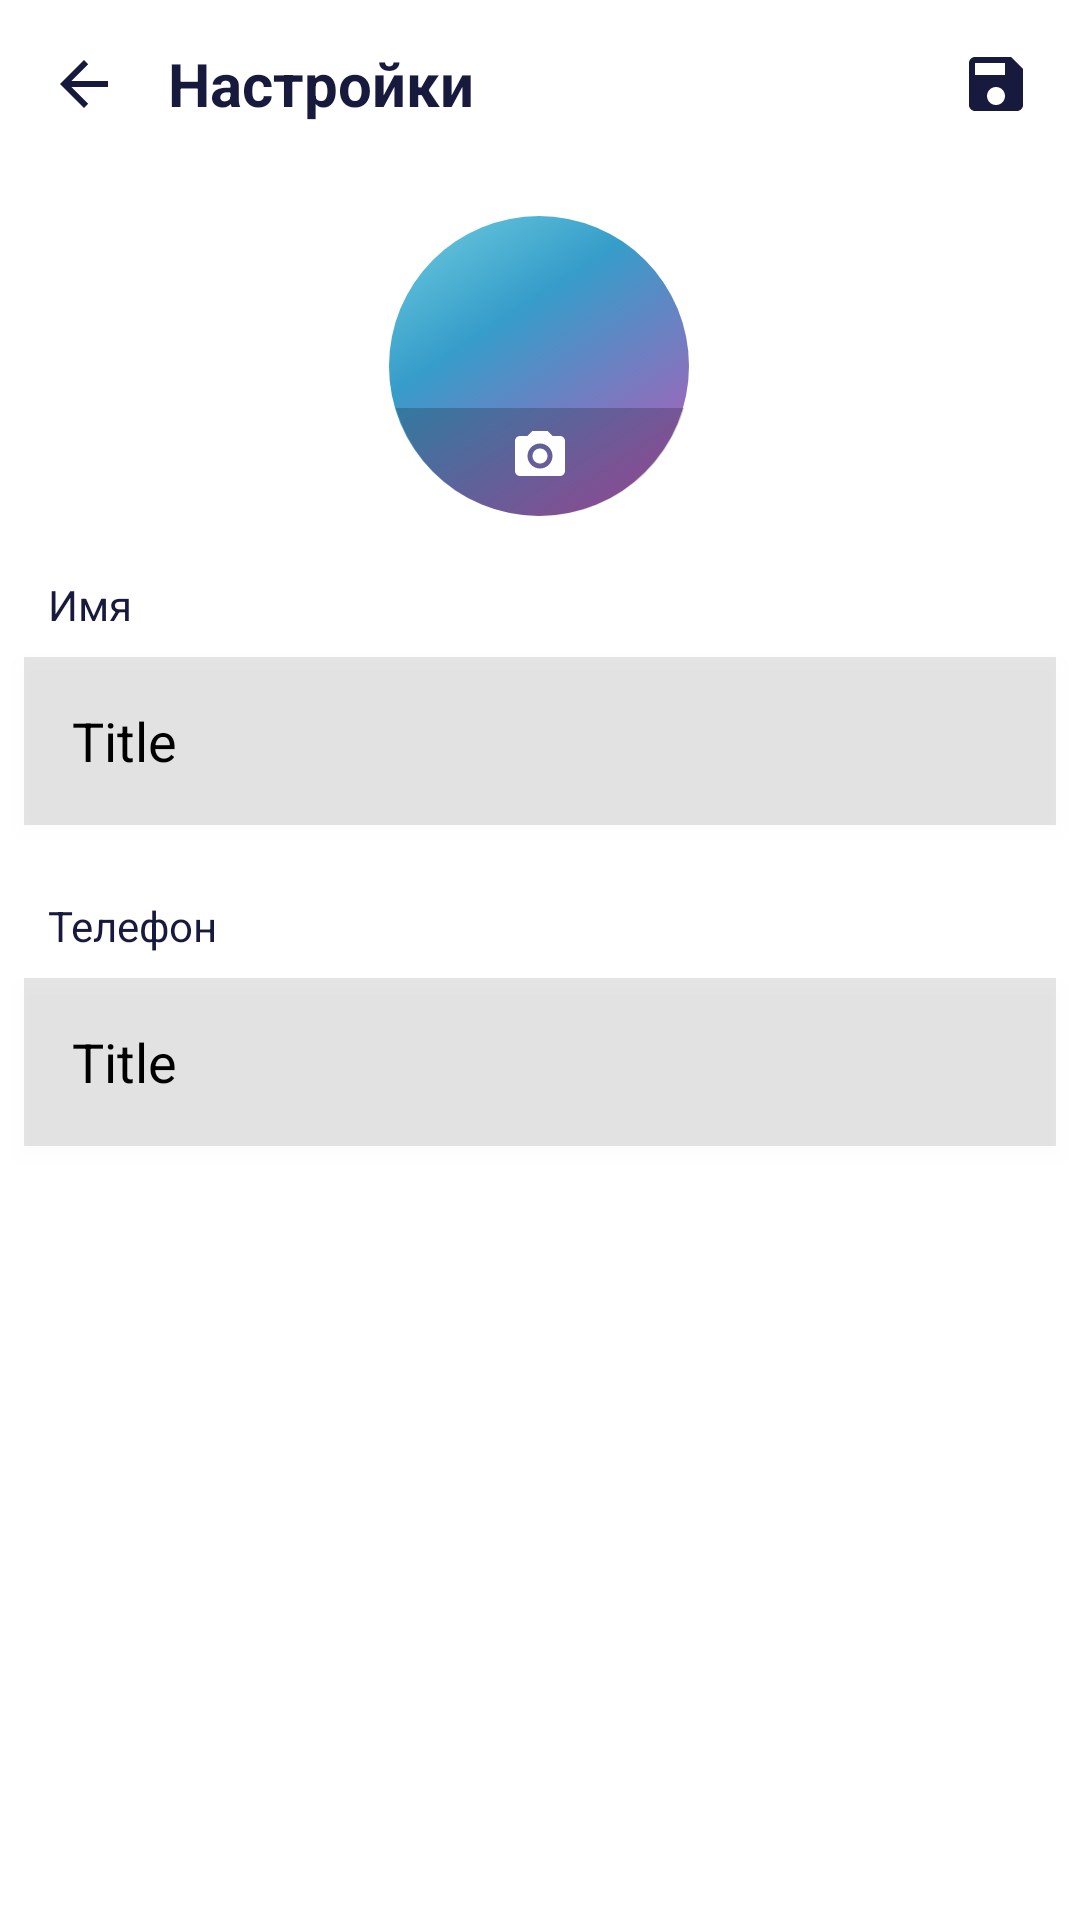

Icon click points for this 1080px×1920px phone screenshot, format point (x, y):
profile pic edit: point (539, 366)
save: point (996, 84)
